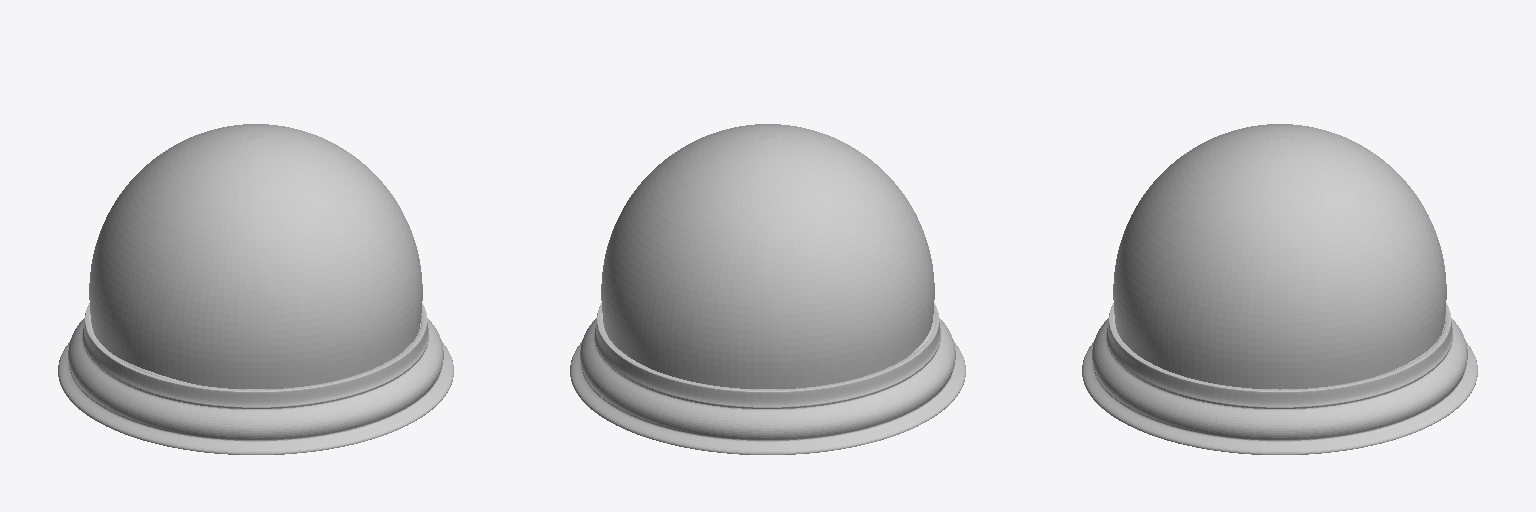
Rendered from snowglobe.obj.
3 views of the same model, side by side, from view 1: azimuth 30°, elevation 25°; view 2: azimuth 150°, elevation 25°; view 3: azimuth 270°, elevation 25° (orthographic).
Visible parts, largest first — view 1: Sphere, Cylinder; view 2: Sphere, Cylinder; view 3: Sphere, Cylinder.
Part boxes in pixels (bbox=[...]): Sphere: bbox=[89, 124, 422, 388]; Cylinder: bbox=[58, 303, 453, 454]; Sphere: bbox=[601, 124, 934, 388]; Cylinder: bbox=[570, 303, 965, 454]; Sphere: bbox=[1113, 124, 1446, 389]; Cylinder: bbox=[1082, 303, 1477, 454].
Size of the model in its own units: 8.06 by 5.26 by 8.06.